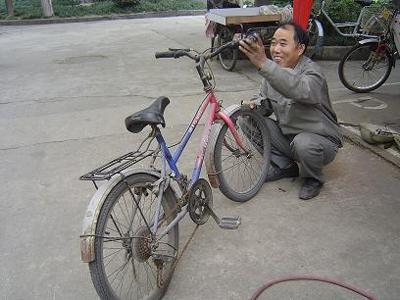person: (239, 23, 342, 201)
